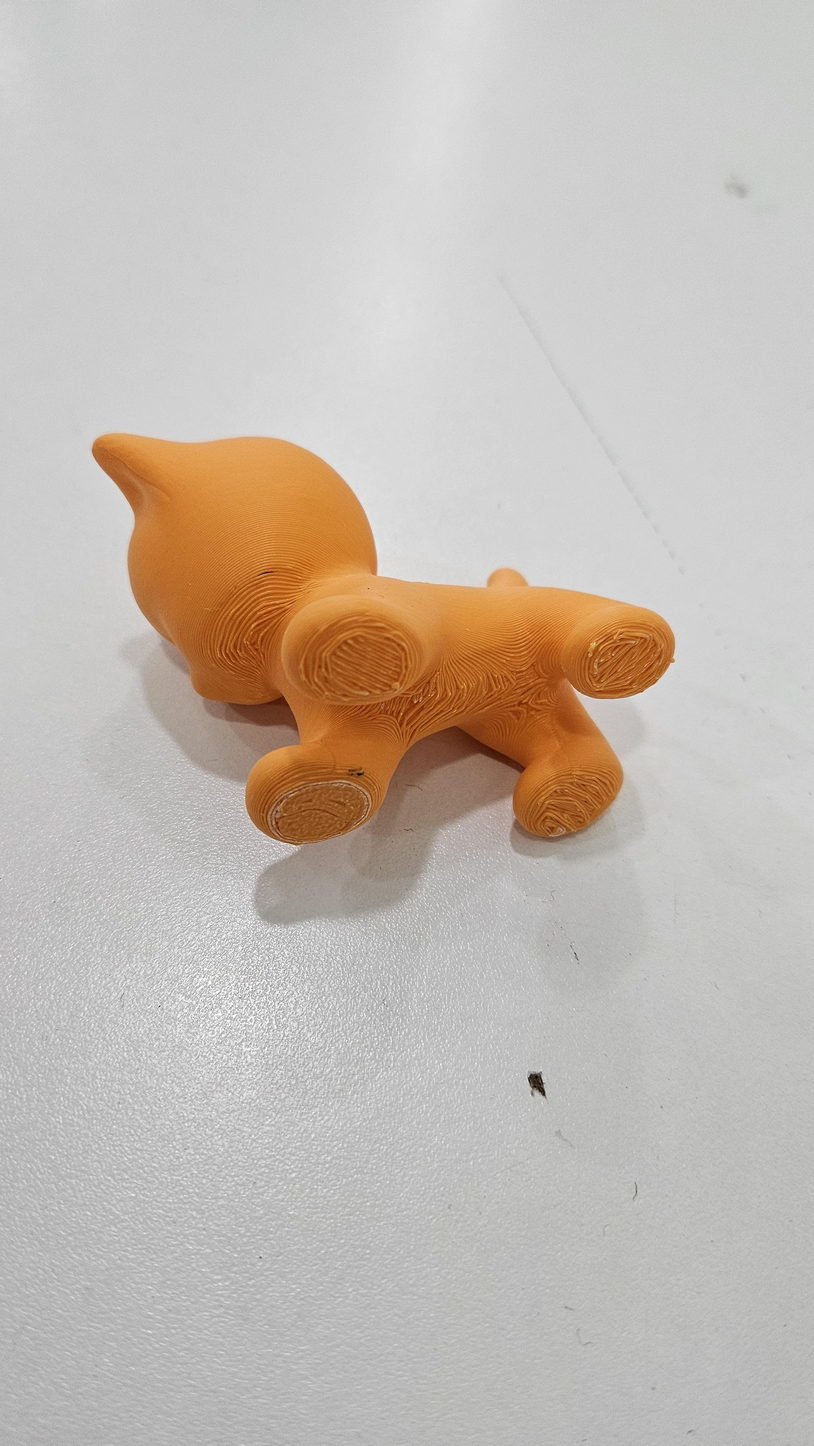cat: (90, 414, 682, 850)
